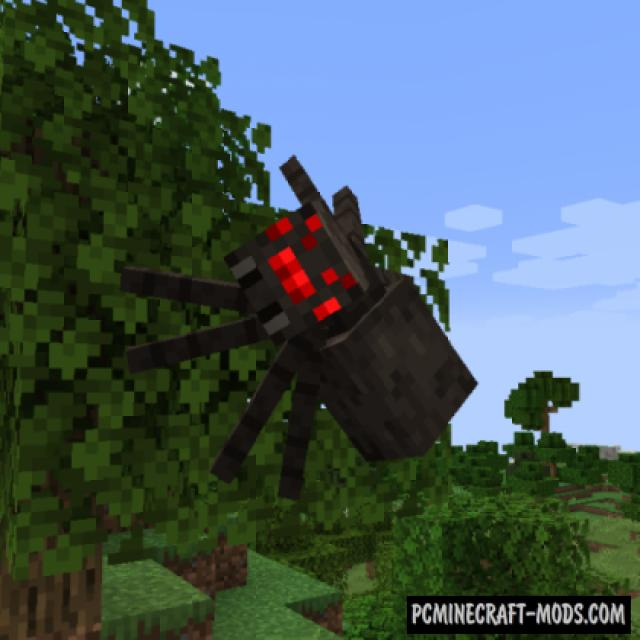Spider: (115, 152, 478, 503)
